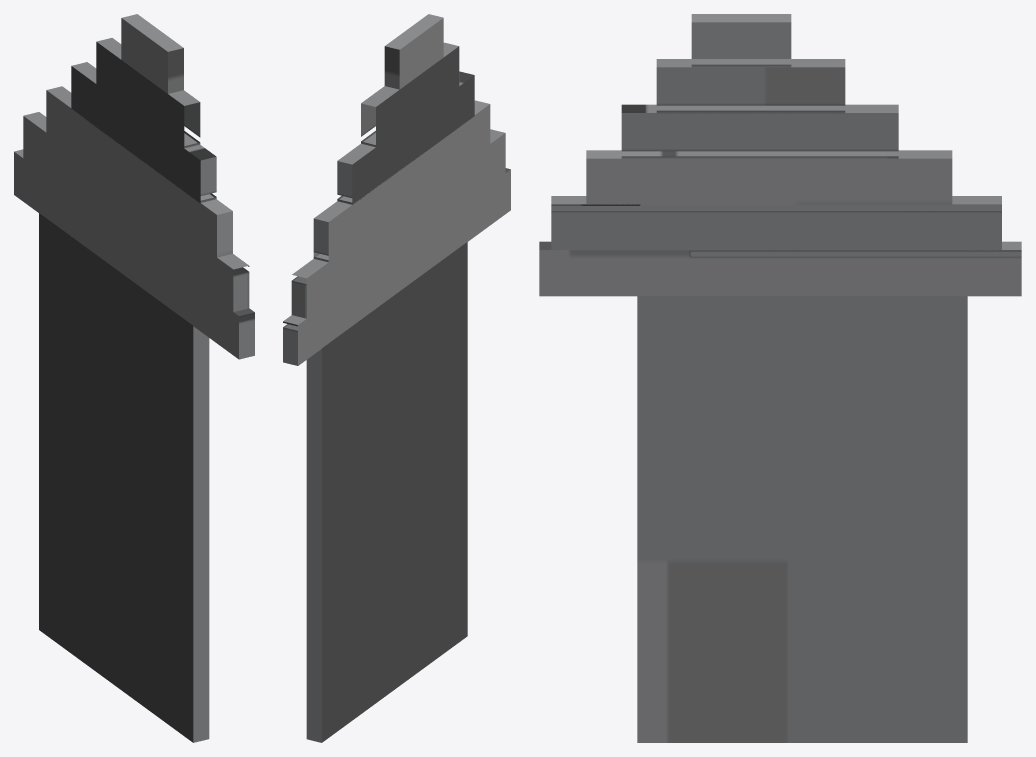
The picture shows the model from 3 angles, left to right: view 1: azimuth 30°, elevation 25°; view 2: azimuth 150°, elevation 25°; view 3: azimuth 270°, elevation 25°; orthographic projection. The views are drawn at different scales.
Size of the model in its own units: 0.02 by 0.806 by 0.4887.
